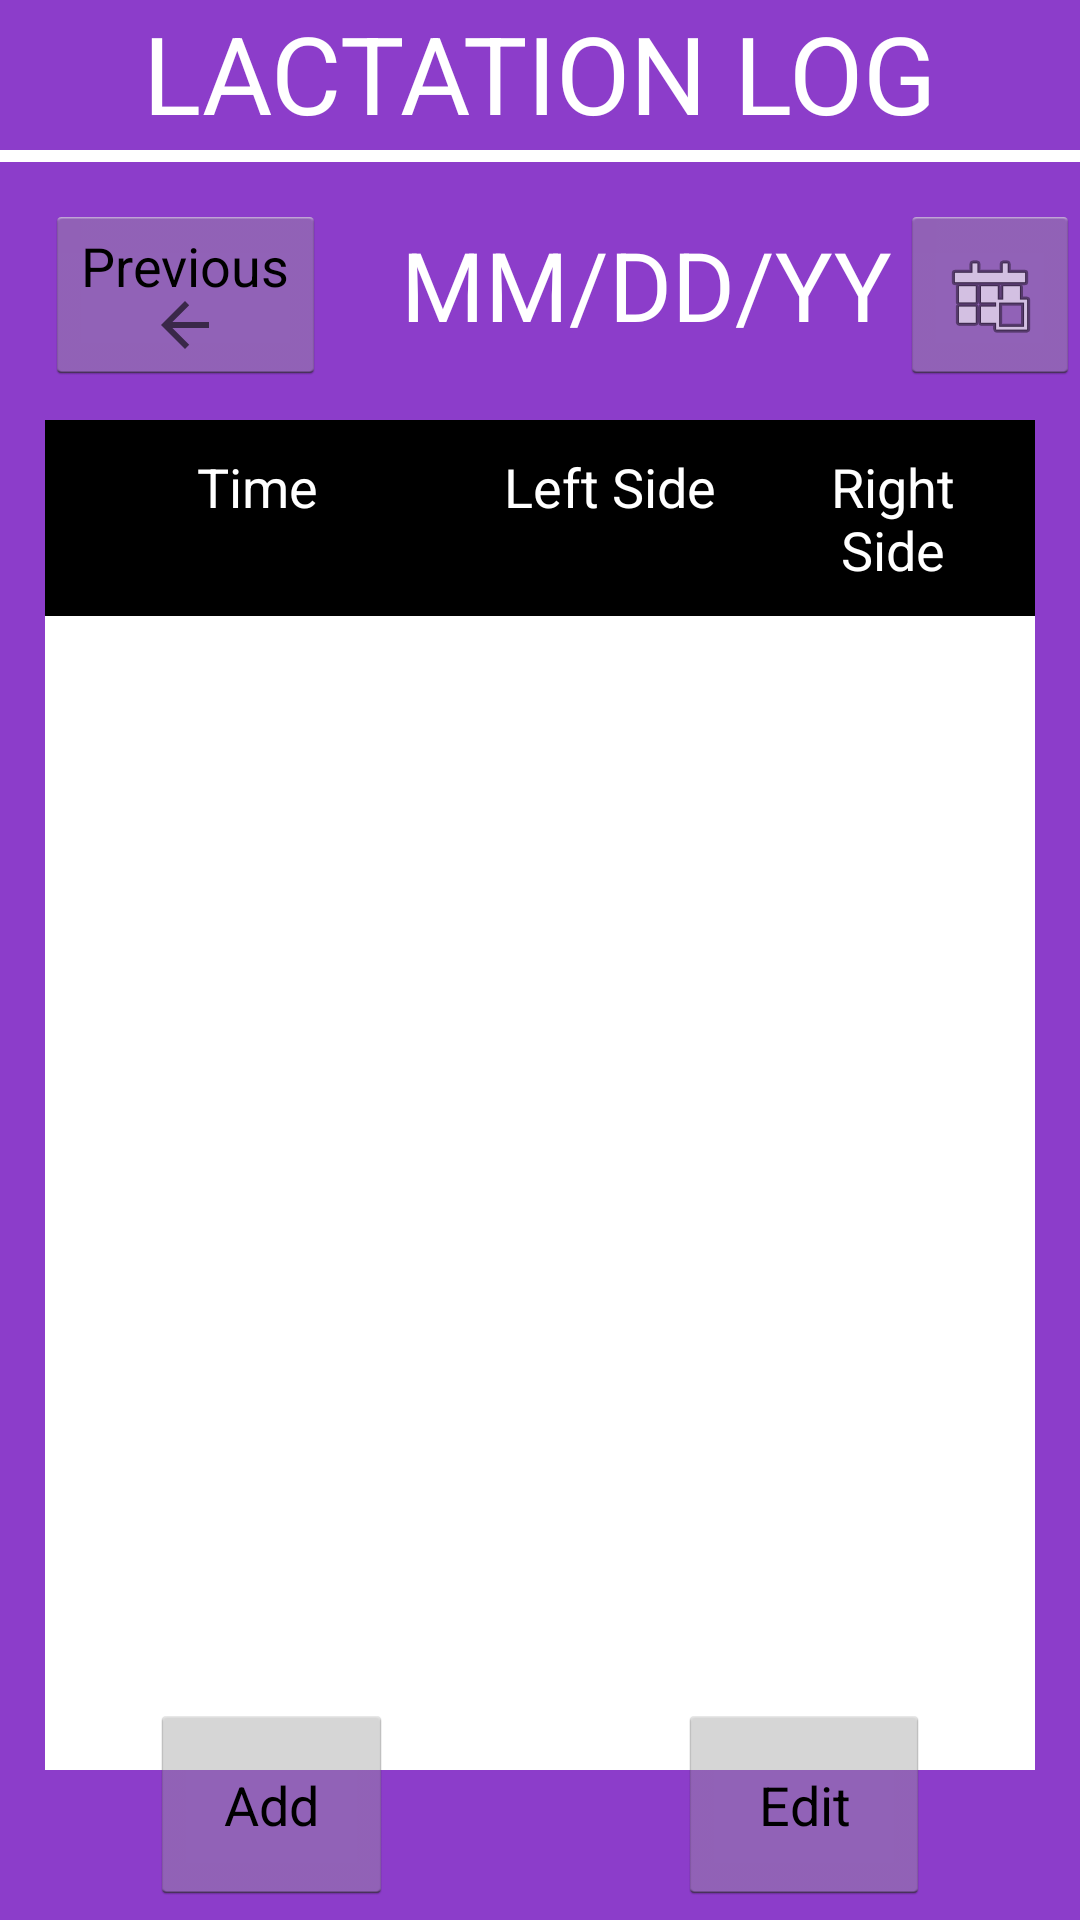

Named icons in this screenshot (1080px x 1920px) and their centers, (x,y):
Calendar: (990,295)
